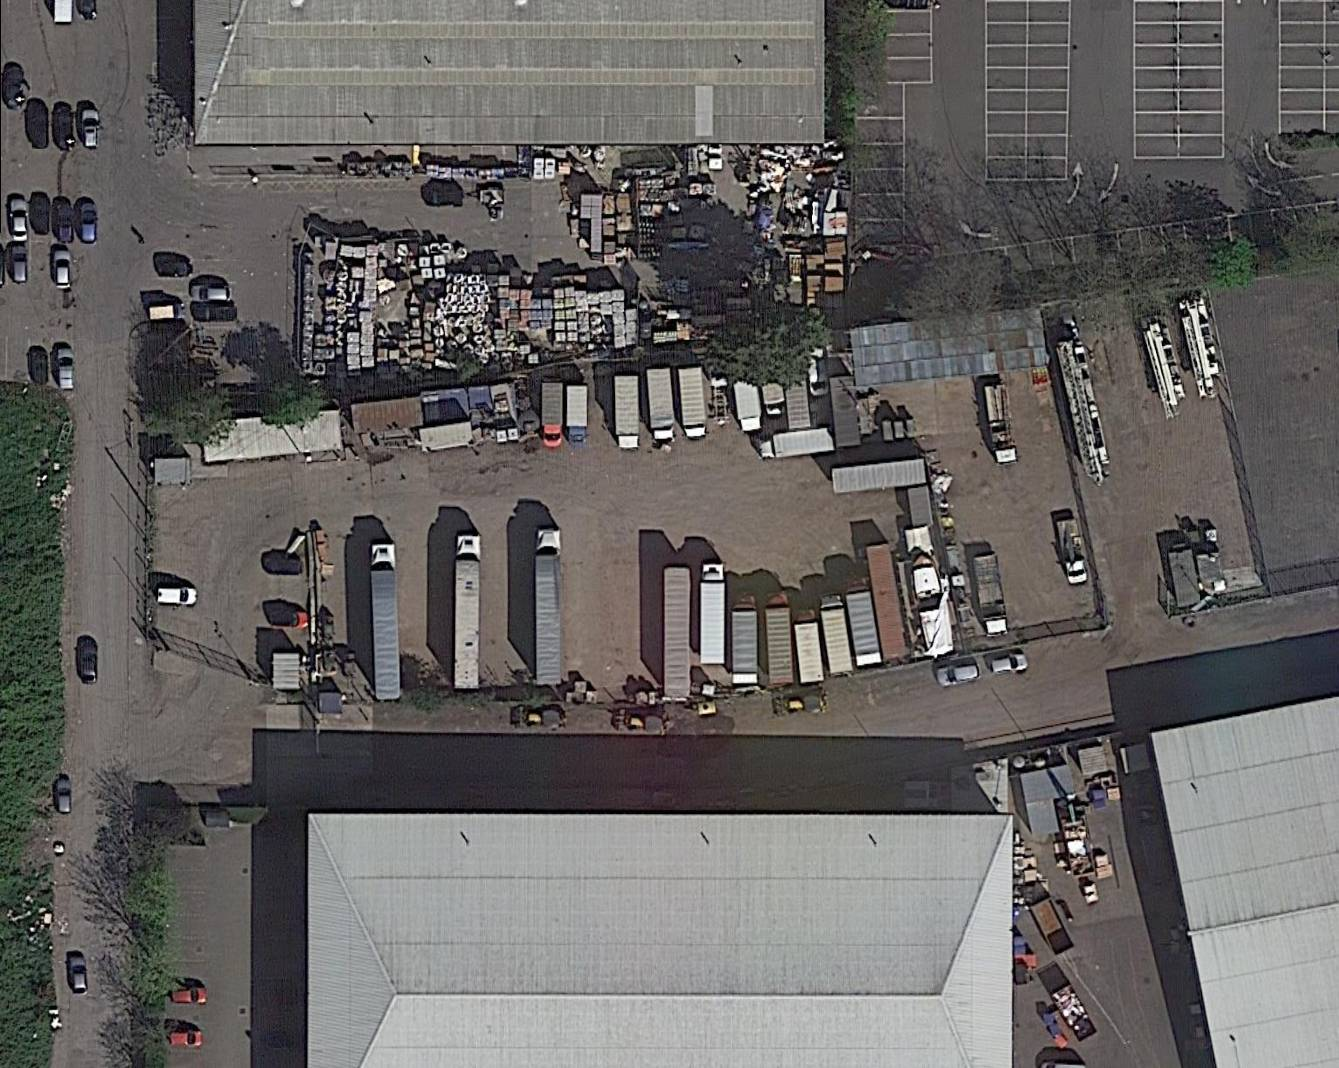large vehicle: (369, 538, 404, 704), (452, 532, 484, 692), (534, 524, 565, 687), (842, 572, 887, 672), (697, 557, 731, 668), (817, 587, 856, 680), (972, 552, 1012, 639), (984, 380, 1022, 470), (763, 587, 796, 688), (759, 423, 839, 464), (643, 362, 679, 449), (1053, 510, 1091, 589), (676, 363, 712, 443), (732, 586, 760, 686), (793, 605, 827, 687), (732, 365, 767, 438), (614, 373, 644, 452), (538, 379, 567, 449), (565, 382, 591, 445)
small vehicle: (934, 660, 982, 690), (988, 651, 1031, 678), (2, 65, 26, 111), (191, 302, 238, 323), (10, 197, 30, 245), (156, 586, 199, 608), (56, 347, 77, 392), (67, 953, 89, 995), (190, 283, 234, 304), (262, 555, 304, 577), (55, 201, 76, 244), (269, 608, 308, 631), (79, 641, 99, 685), (423, 189, 466, 209), (52, 249, 72, 291), (169, 985, 208, 1006), (29, 110, 50, 149), (29, 350, 51, 387), (56, 111, 76, 151), (80, 203, 99, 245), (168, 1028, 204, 1049), (148, 302, 184, 323), (82, 111, 101, 150), (11, 244, 29, 285), (33, 195, 51, 235), (56, 777, 74, 815), (158, 260, 194, 278)
